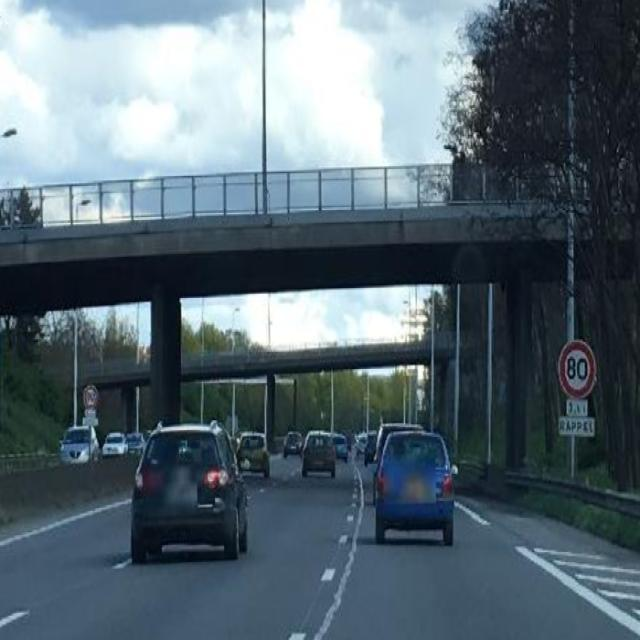speed_80: (559, 341, 595, 398)
